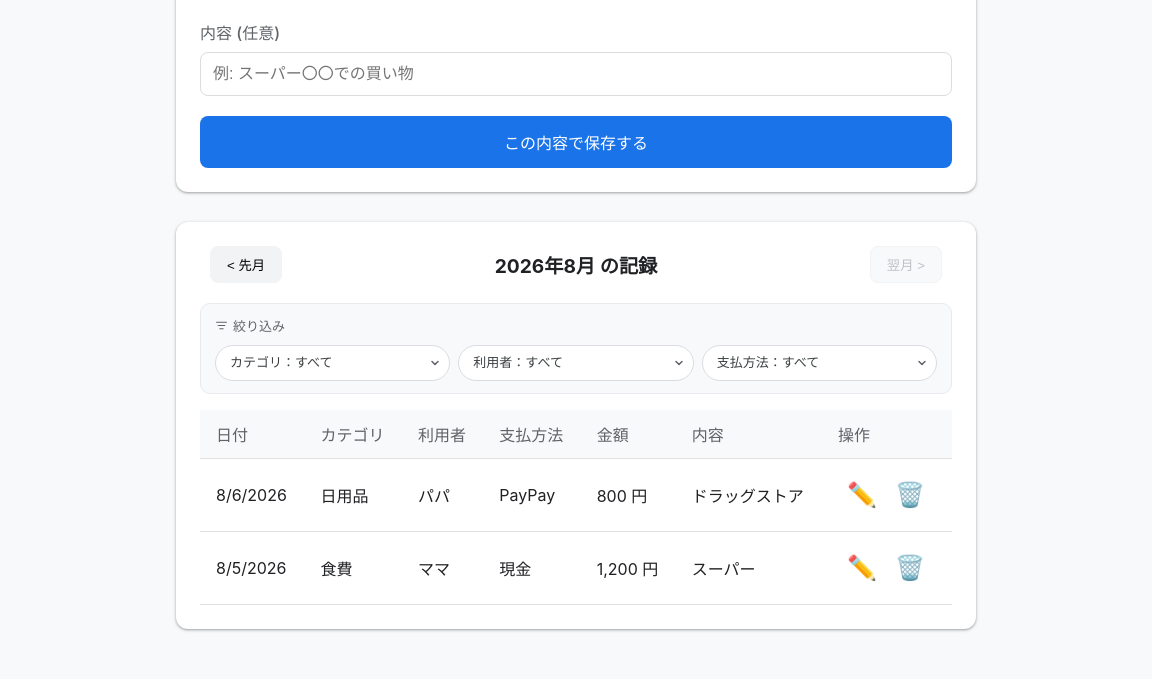
Test case: 確認ダイアログでキャンセルすると削除されない
(page scrolled)
Expected: the text "スーパー" is shown, left=676, top=531, right=822, bottom=604
Click the button named "削除": click(910, 495) left=886, top=471, right=934, bottom=519
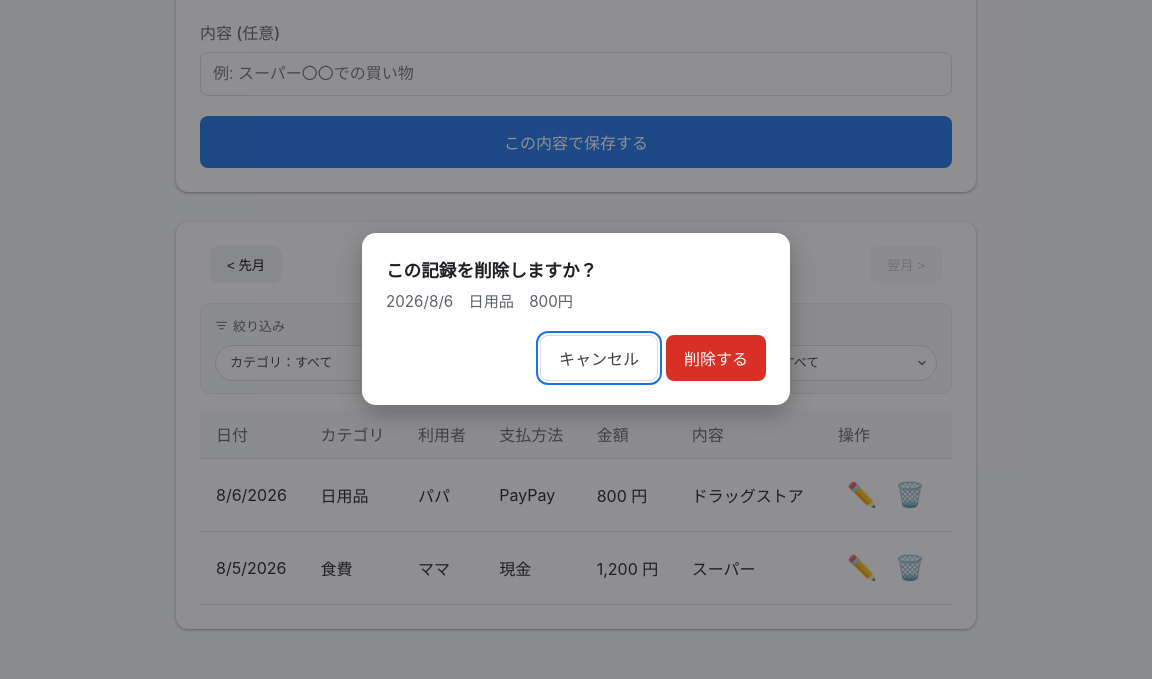
Click the button "キャンセル": click(599, 358) left=540, top=335, right=658, bottom=381
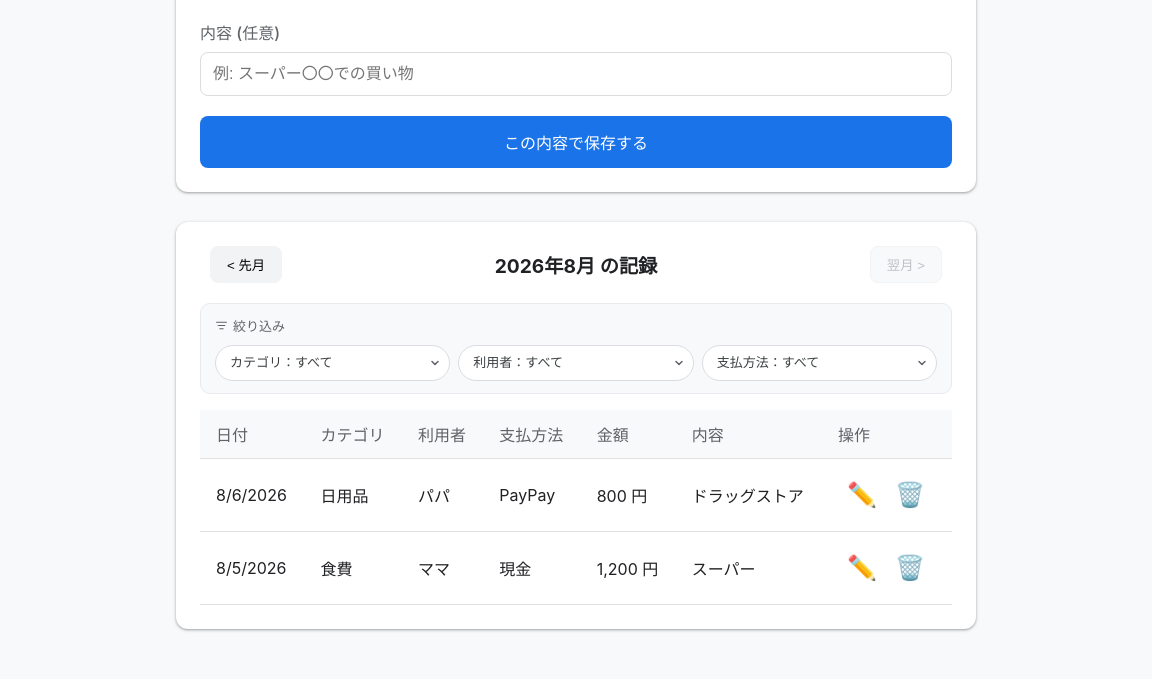
Now the dialog is gone
